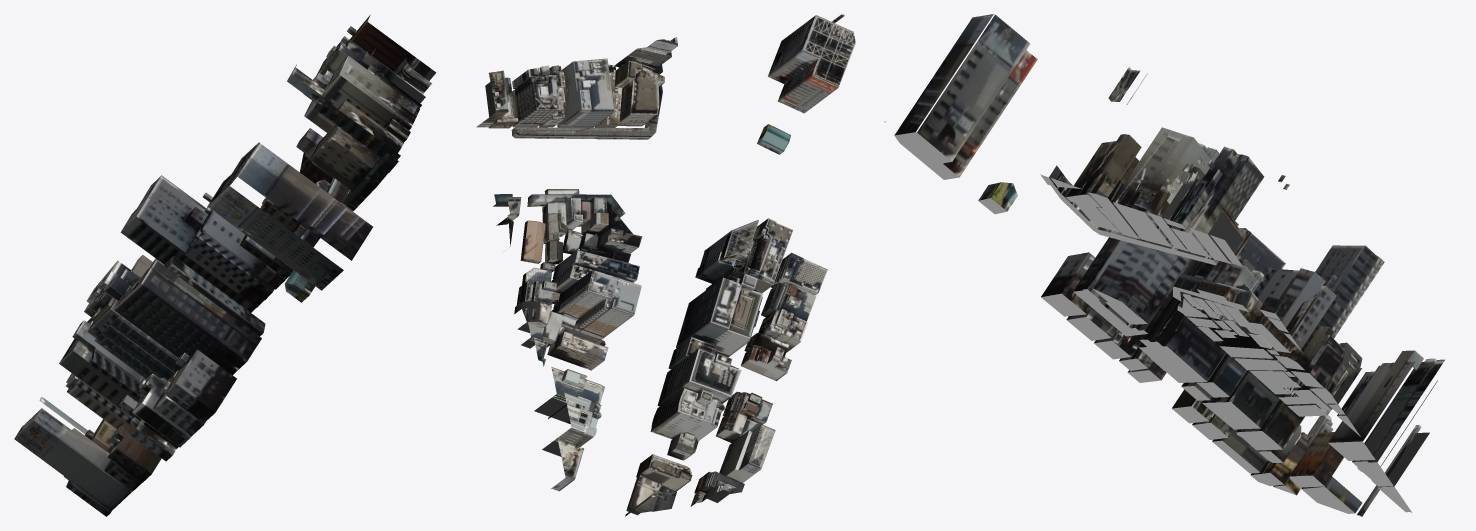
The model's file is 39532_bldg_Building.glb.
The picture shows the model from 3 angles, left to right: view 1: azimuth 30°, elevation 25°; view 2: azimuth 150°, elevation 25°; view 3: azimuth 270°, elevation 25°; orthographic projection. The views are drawn at different scales.
Size of the model in its own units: 129 by 149 by 162.
3 materials, 2 textured.
